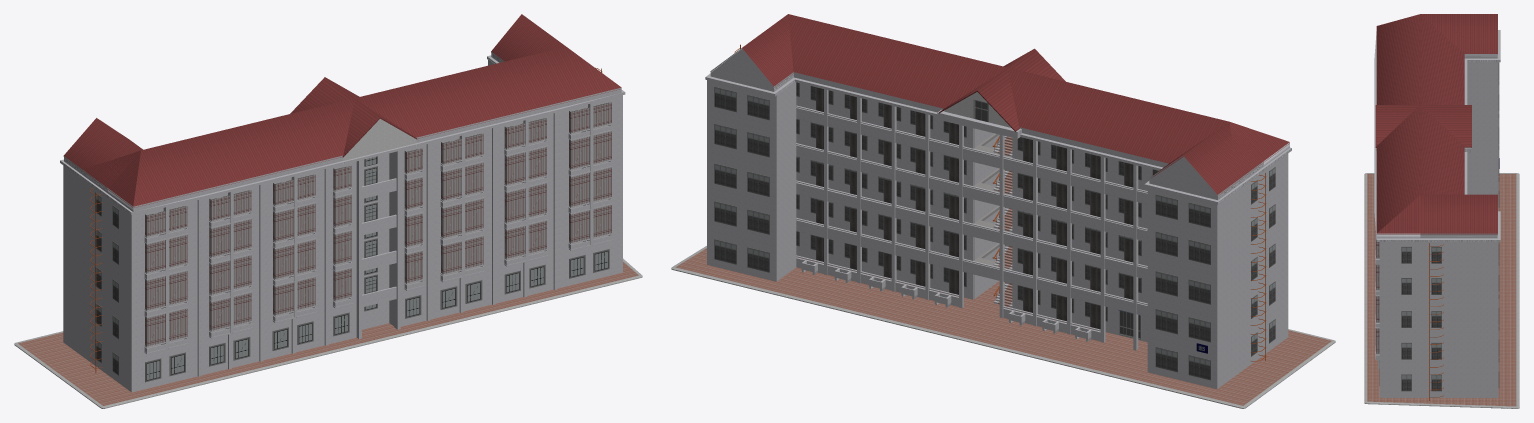
The picture shows the model from 3 angles, left to right: view 1: azimuth 30°, elevation 25°; view 2: azimuth 150°, elevation 25°; view 3: azimuth 270°, elevation 25°; orthographic projection. The views are drawn at different scales.
Visible parts, largest first — view 1: B5(Clone); view 2: B5(Clone); view 3: B5(Clone).
Part boxes in pixels (x1,y1,x2,y2): B5(Clone): (14,14,642,408); B5(Clone): (671,14,1335,408); B5(Clone): (1364,14,1519,408).
Size of the model in its own units: 2.97 by 1.12 by 0.83.
Materials: 12 (9 with a texture image).
